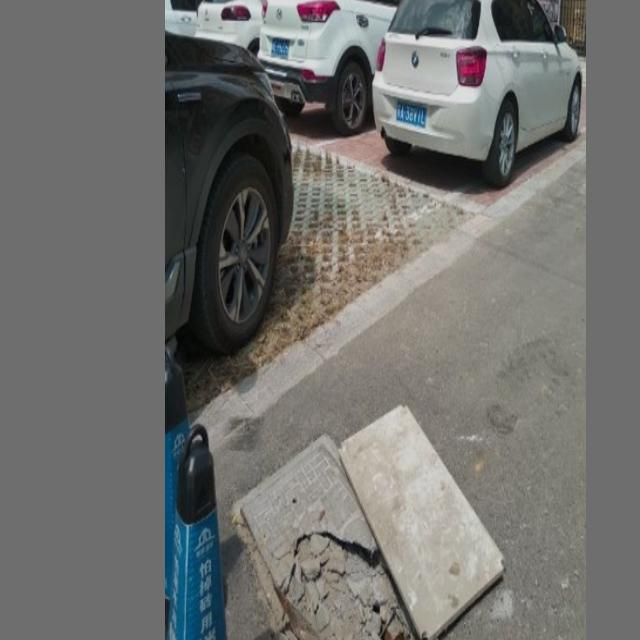broke: (236, 426, 513, 640)
